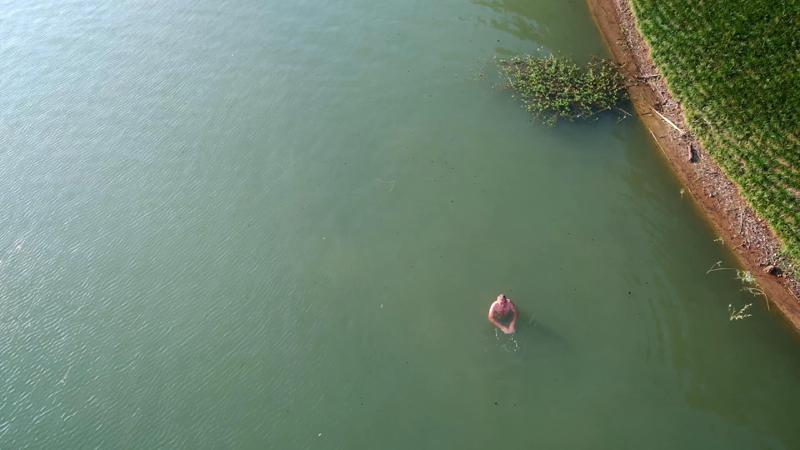swimmers: (486, 292, 519, 335)
